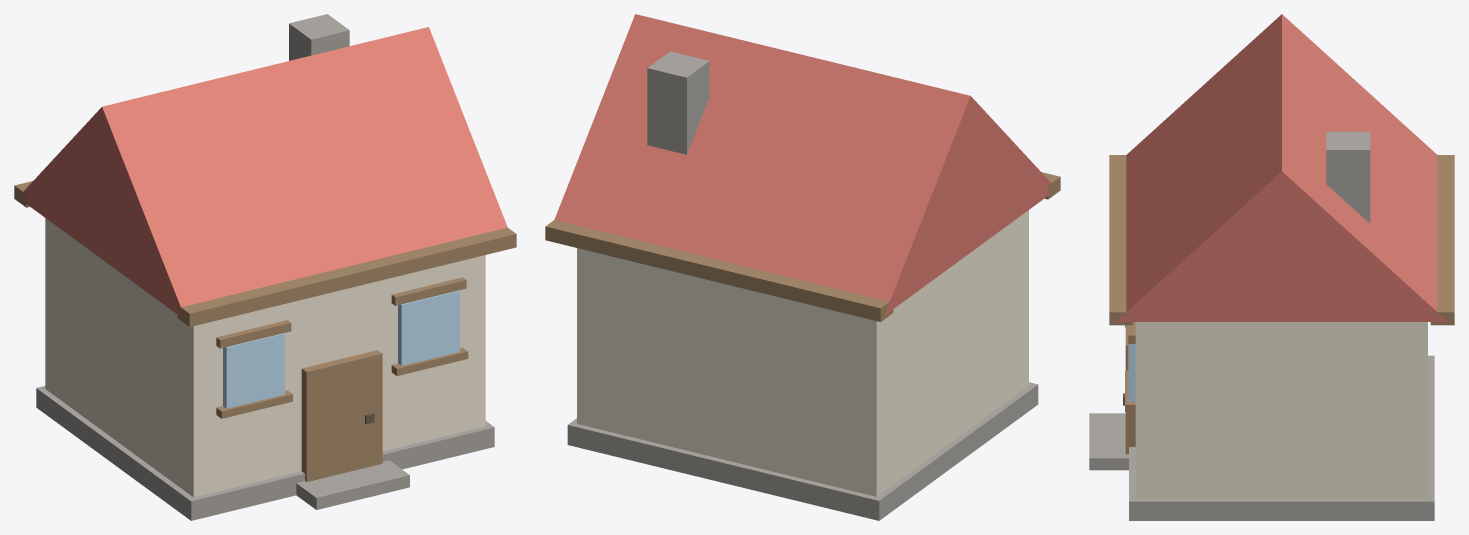
Rendered from house.glb.
The picture shows the model from 3 angles, left to right: view 1: azimuth 30°, elevation 25°; view 2: azimuth 150°, elevation 25°; view 3: azimuth 270°, elevation 25°; orthographic projection. The views are drawn at different scales.
Visible parts, largest first — view 1: house; view 2: house; view 3: house.
Boxes of the visible parts, x1,y1,x2,y2 form: house: (14,14,516,520); house: (545,14,1060,520); house: (1089,14,1454,520).
Size of the model in its own units: 5.6 by 5.9 by 5.5.
